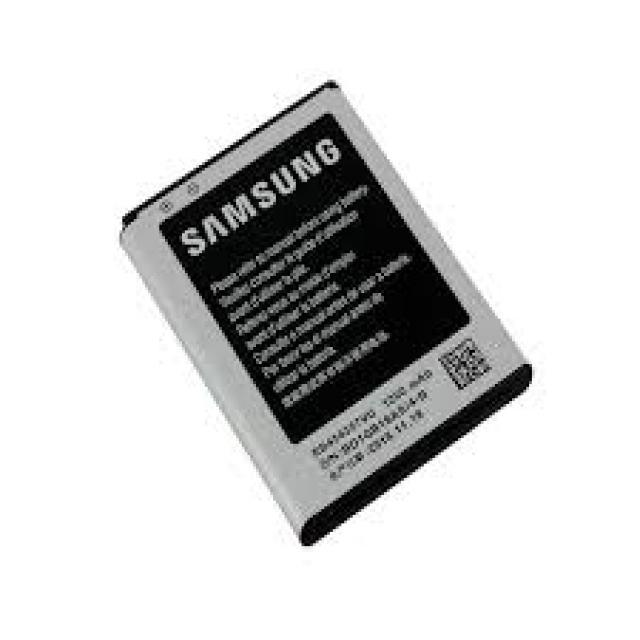battery: (124, 78, 543, 548)
